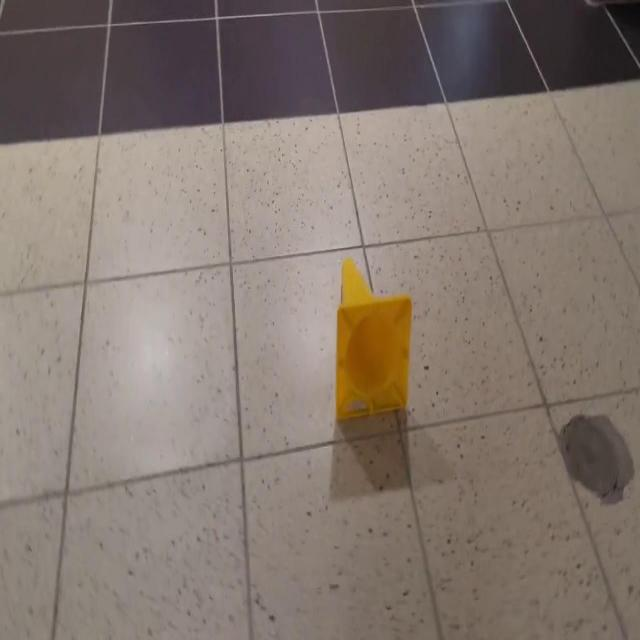frc_cone: (336, 257, 410, 416)
